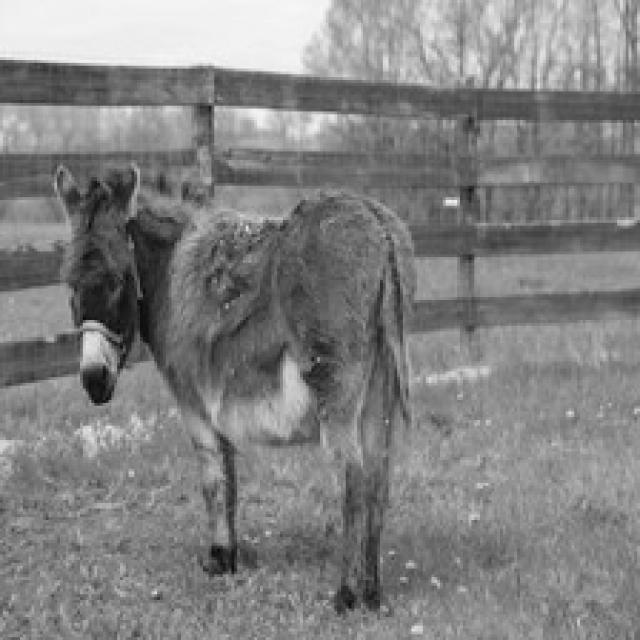Donkey: (52, 157, 417, 614)
